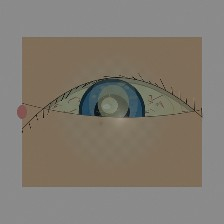corneal_ulcer: (84, 79, 143, 127)
